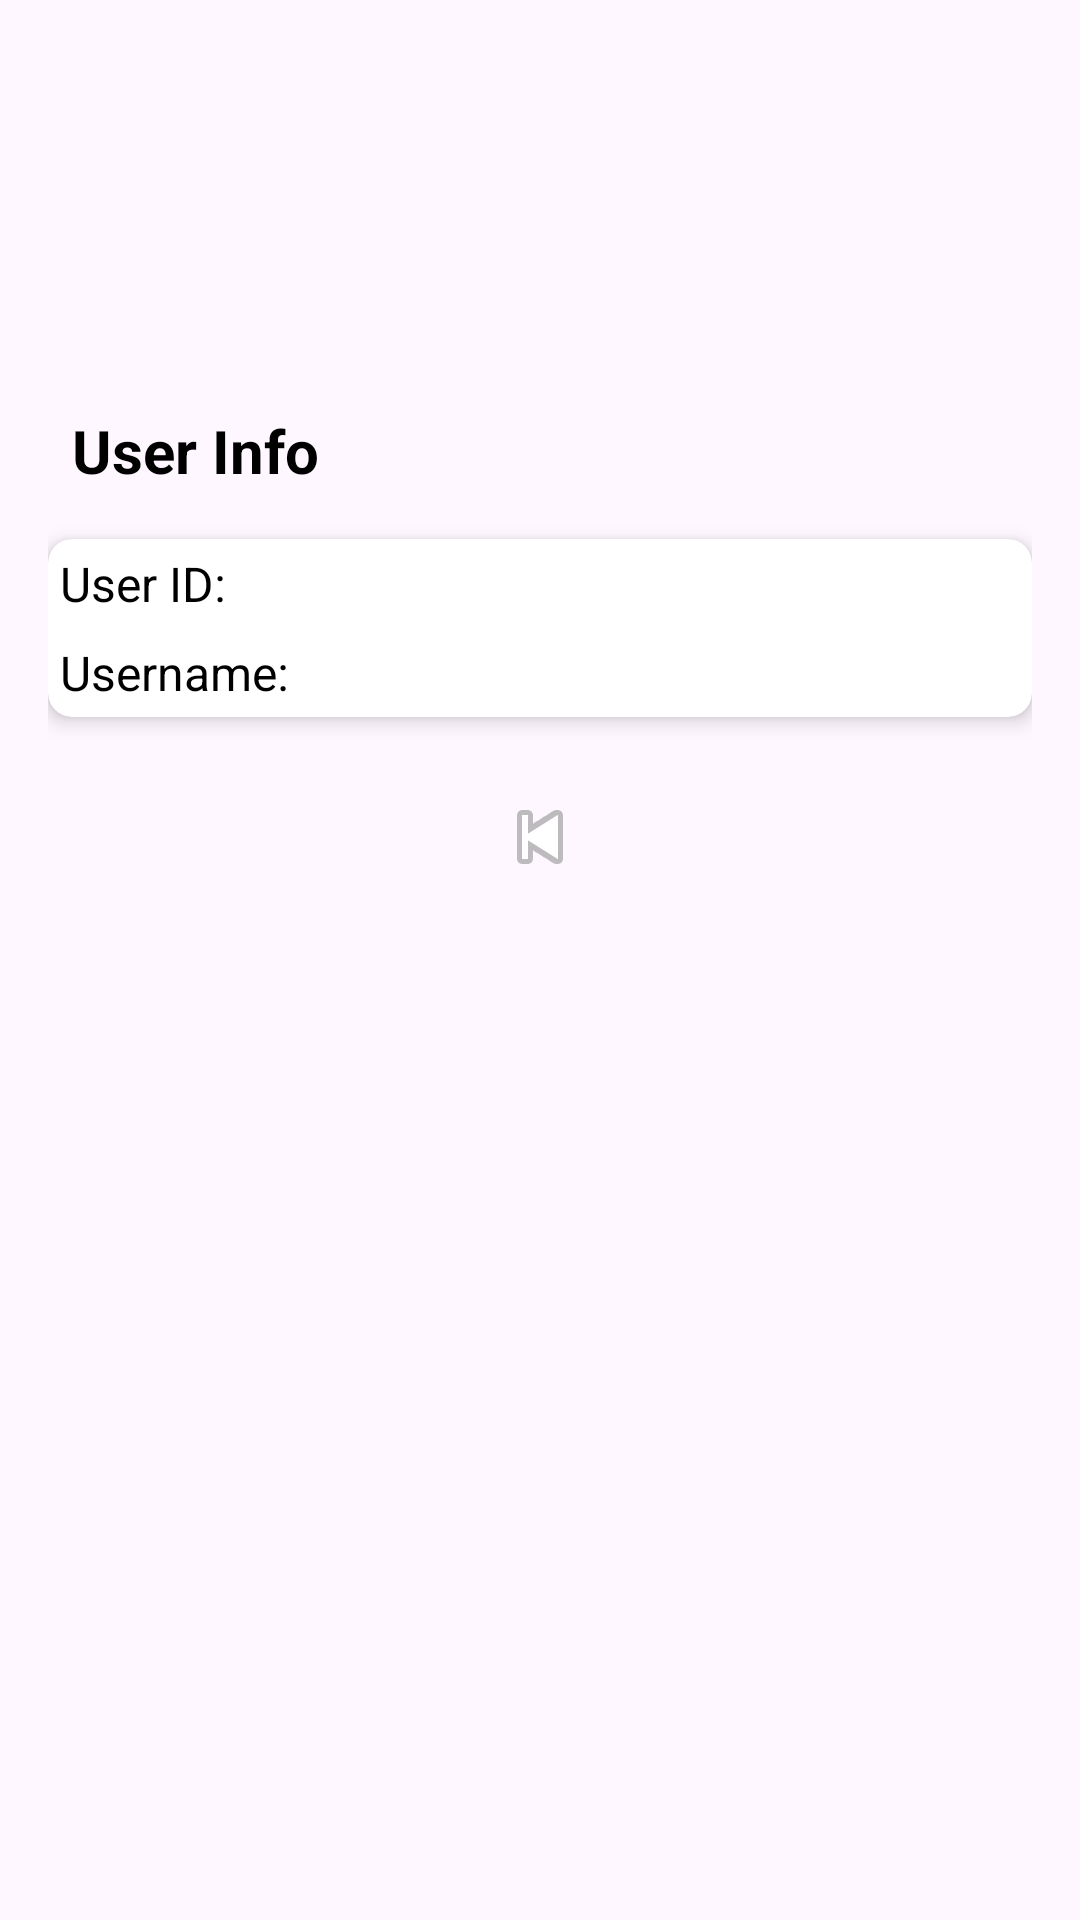

Icons on this 1080×1920 Android screen, each with its box as {"left": x1, "top": y1, "right": x2, "bottom": y2}:
Back: {"left": 517, "top": 810, "right": 563, "bottom": 864}
